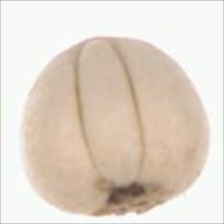L5: (73, 36, 148, 184), (88, 184, 188, 217)
L6: (17, 37, 211, 217)
